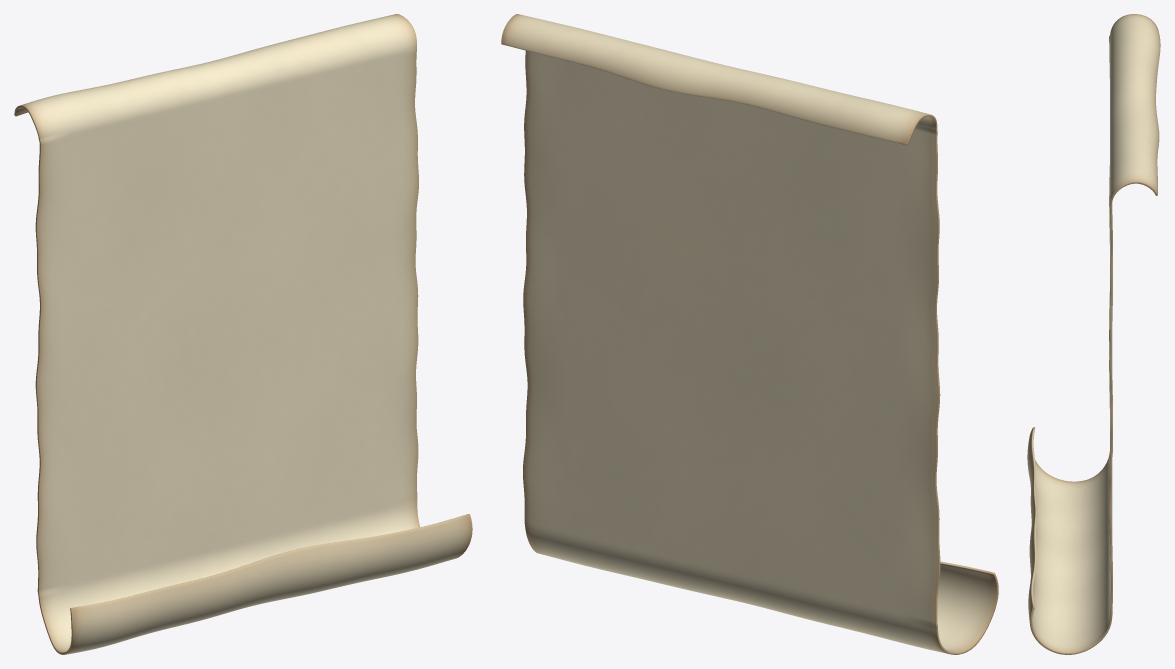
The model's file is Fantasy_Parchment_Scroll_Corrected.glb.
3 renders of one model, left to right at view 1: azimuth 30°, elevation 25°; view 2: azimuth 150°, elevation 25°; view 3: azimuth 270°, elevation 25°, orthographic. The views are drawn at different scales.
Parts seen in each view (by area): view 1: Fantasy_Parchment_Scroll; view 2: Fantasy_Parchment_Scroll; view 3: Fantasy_Parchment_Scroll.
Boxes of the visible parts, x1=… form: Fantasy_Parchment_Scroll: x1=14, y1=14, x2=472, y2=654; Fantasy_Parchment_Scroll: x1=501, y1=14, x2=998, y2=654; Fantasy_Parchment_Scroll: x1=1027, y1=14, x2=1160, y2=654.
Bounding box in the file's own units: 4.28 × 5.29 × 1.35.
Materials: 1 (1 with a texture image).
